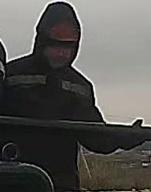gloves: (120, 118, 151, 151)
helmet: (47, 20, 79, 42)
vest: (0, 55, 92, 192)
